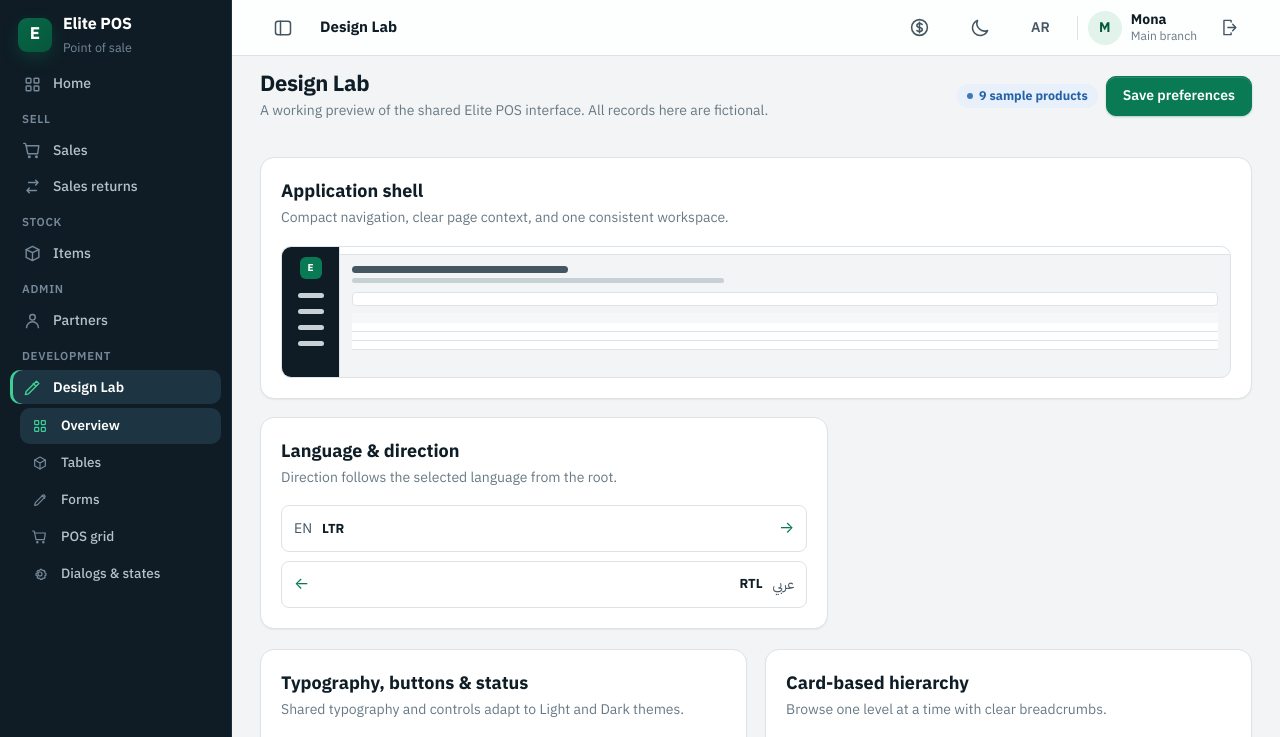
Test: App › logs out and returns to the login screen
Click the button titled "Log out".
click(1230, 28)  # box [1203,8,1256,48]
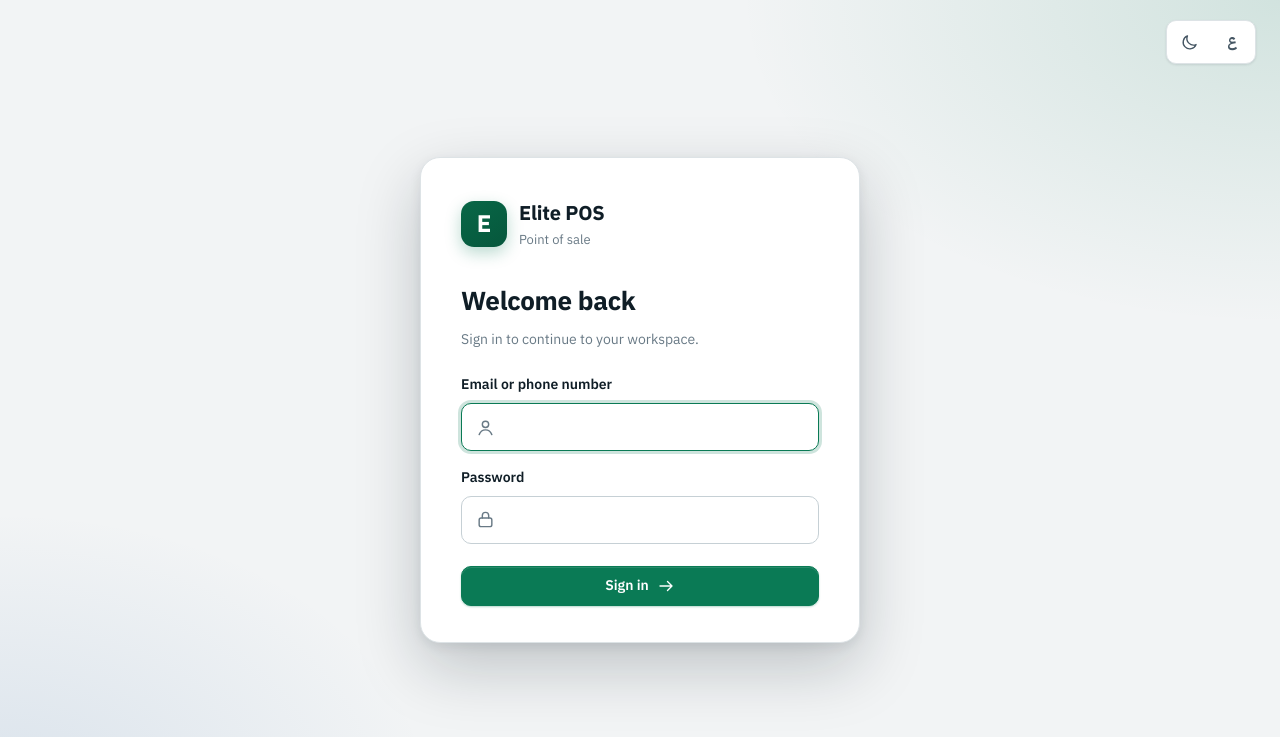
Now the heading "Welcome back" is shown, box [461,282,636,321]
